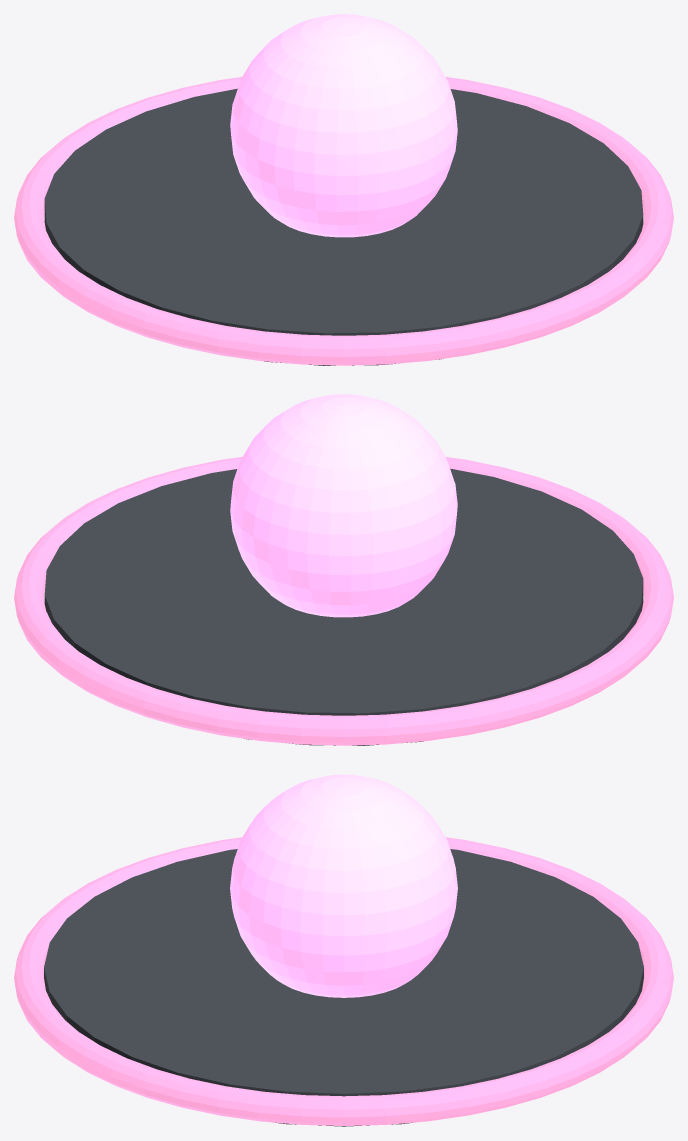
File: channel_osint.glb
The picture shows the model from 3 angles, top to bottom: view 1: azimuth 30°, elevation 25°; view 2: azimuth 150°, elevation 25°; view 3: azimuth 270°, elevation 25°; orthographic projection.
Visible parts, largest first — view 1: osint_base, osint_emblem, osint_glow; view 2: osint_base, osint_emblem, osint_glow; view 3: osint_base, osint_emblem, osint_glow.
Boxes of the visible parts, x1,y1,x2,y2 form: osint_base: [44, 88, 643, 365]; osint_emblem: [230, 14, 457, 237]; osint_glow: [14, 77, 673, 365]; osint_base: [44, 468, 643, 745]; osint_emblem: [230, 394, 457, 617]; osint_glow: [14, 457, 673, 745]; osint_base: [44, 849, 643, 1126]; osint_emblem: [230, 774, 457, 997]; osint_glow: [14, 837, 673, 1125].
Size of the model in its own units: 2.2 by 0.79 by 2.2.
